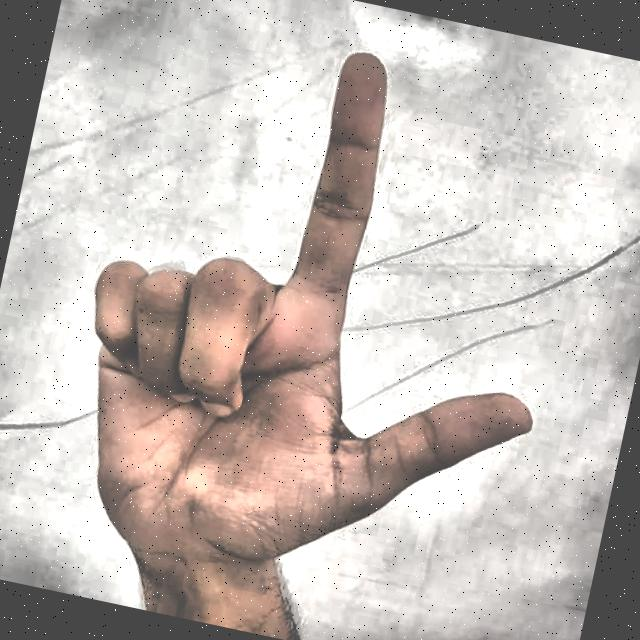La: (0, 0, 625, 640)
